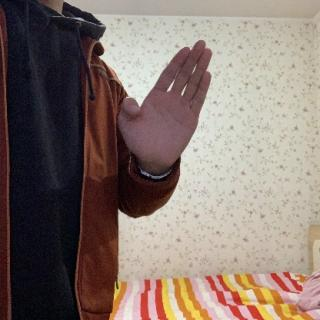KAAF: (111, 39, 218, 176)
